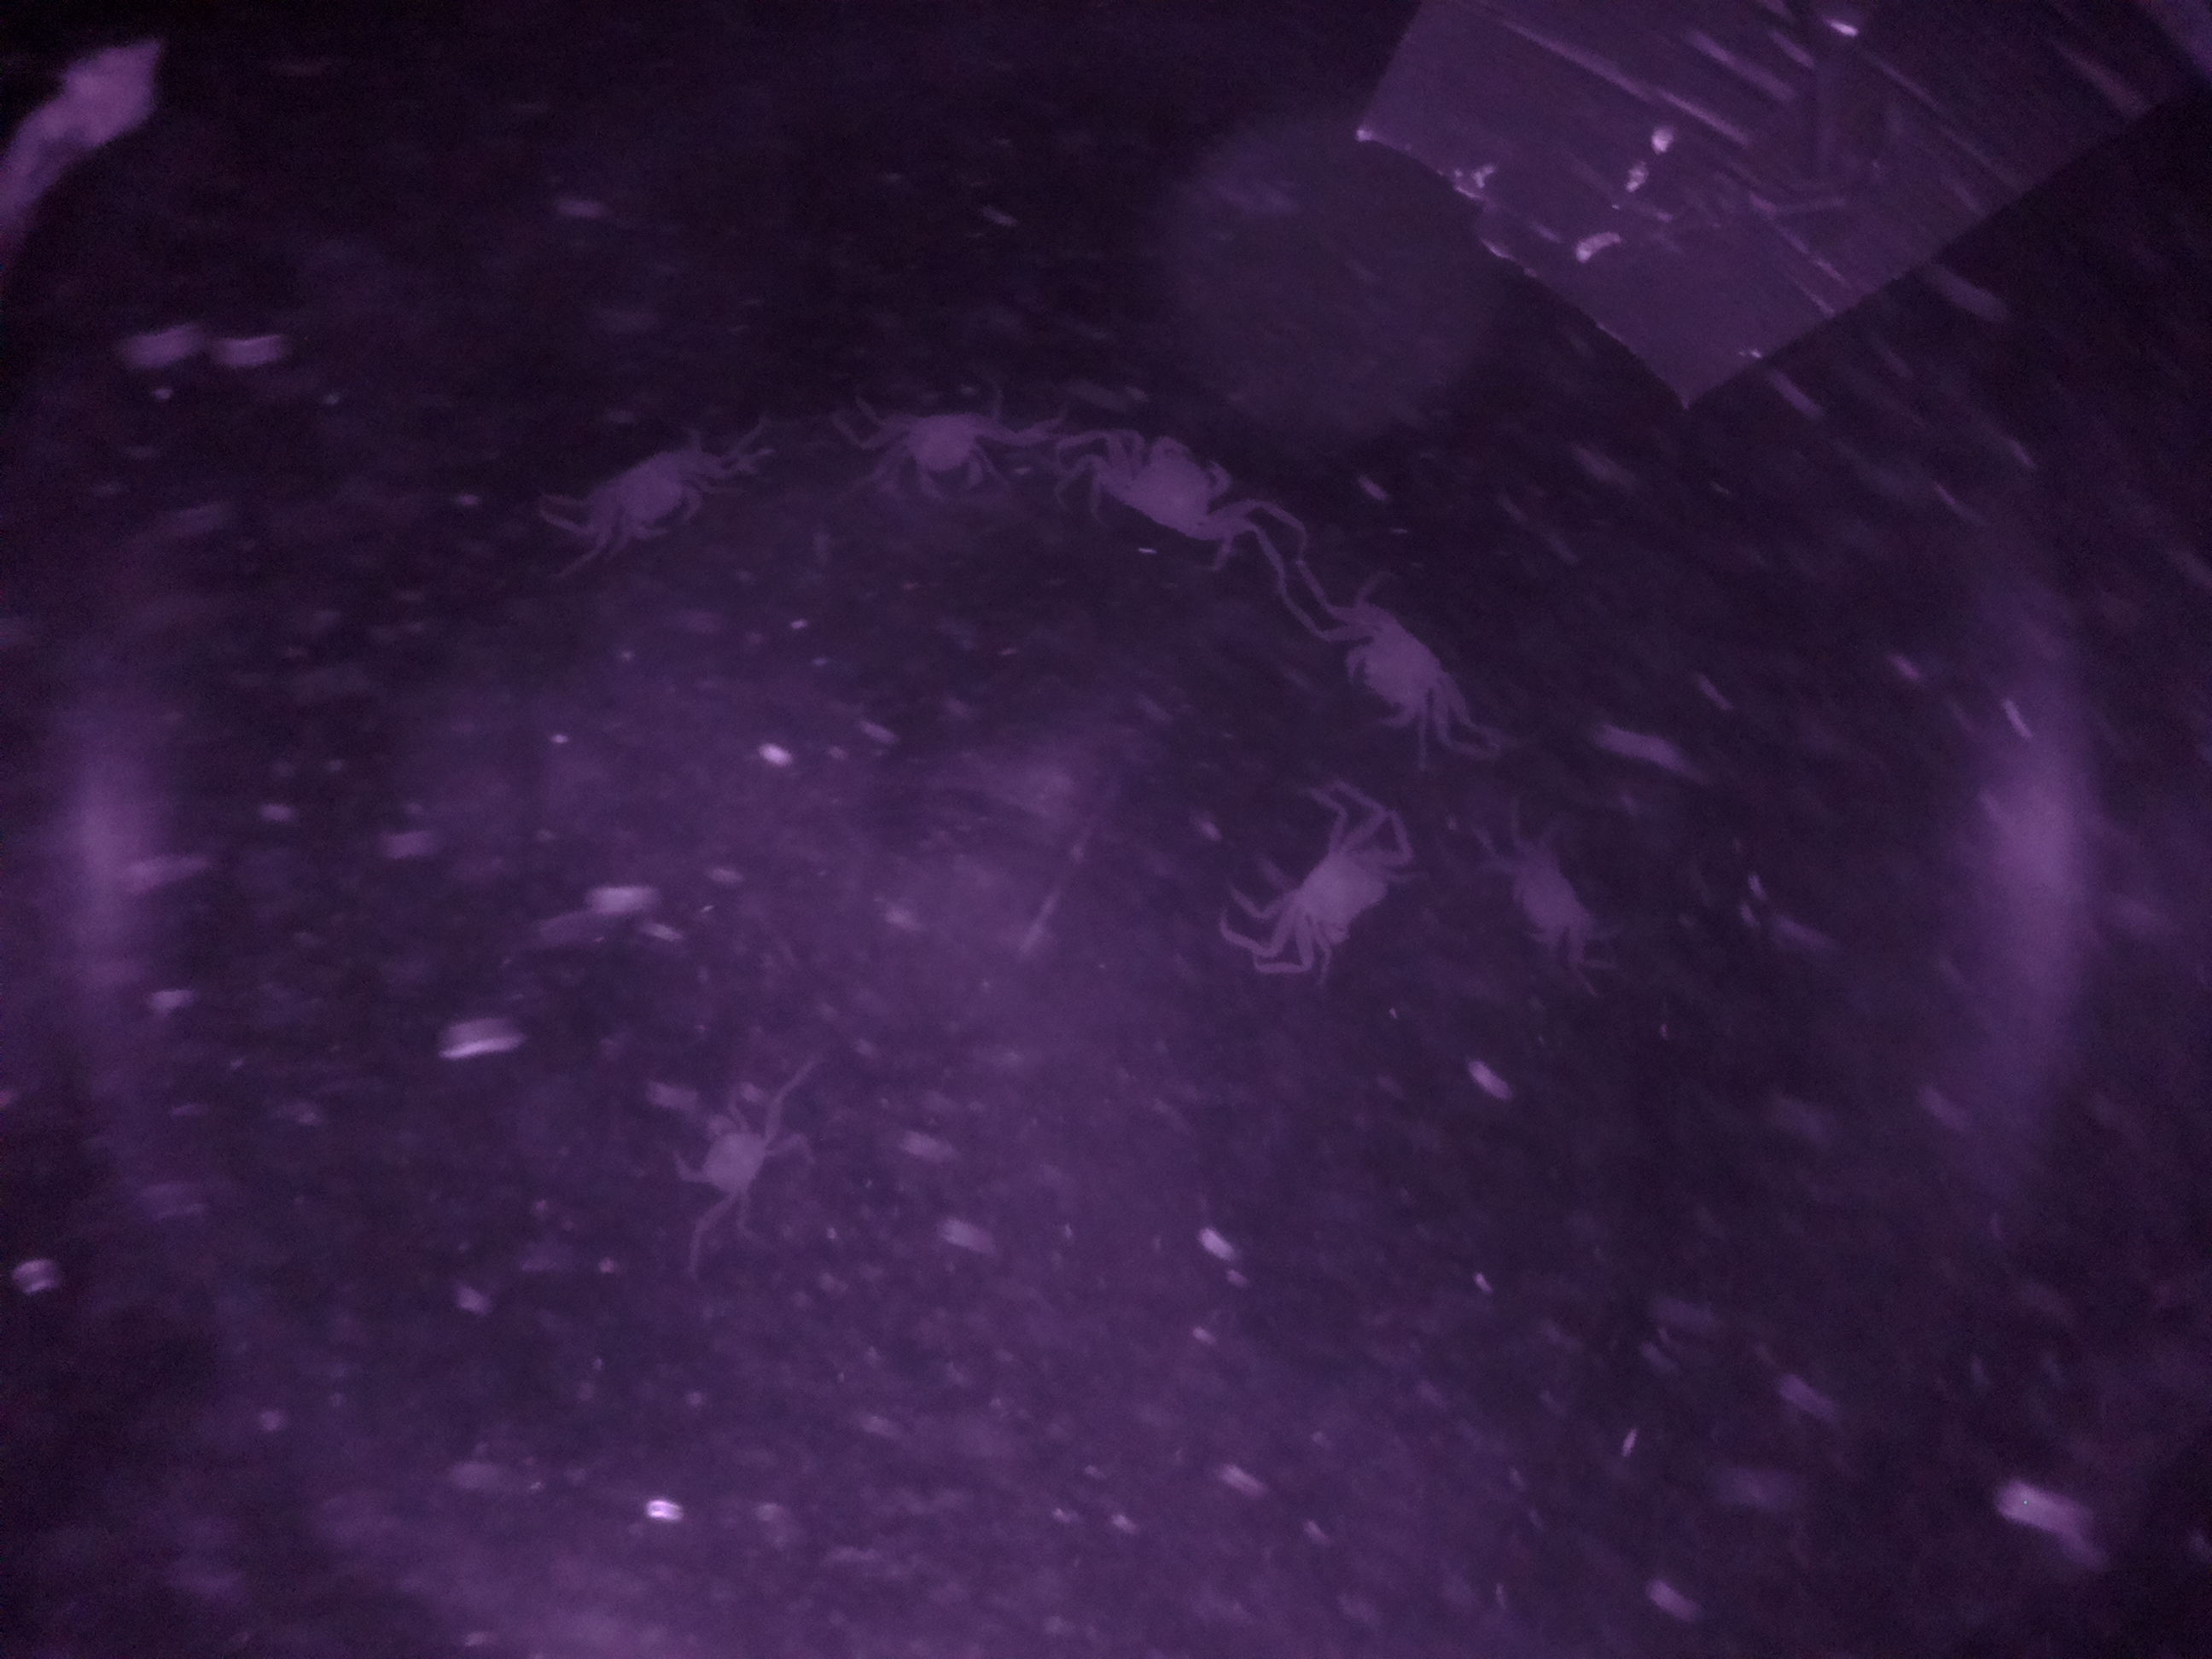Crab: (1087, 415, 1289, 573), (1308, 598, 1493, 755), (1261, 816, 1413, 978)
